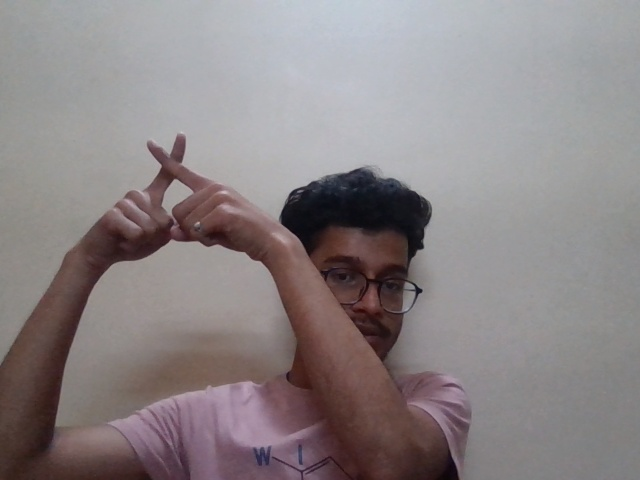X: (68, 114, 275, 282)
